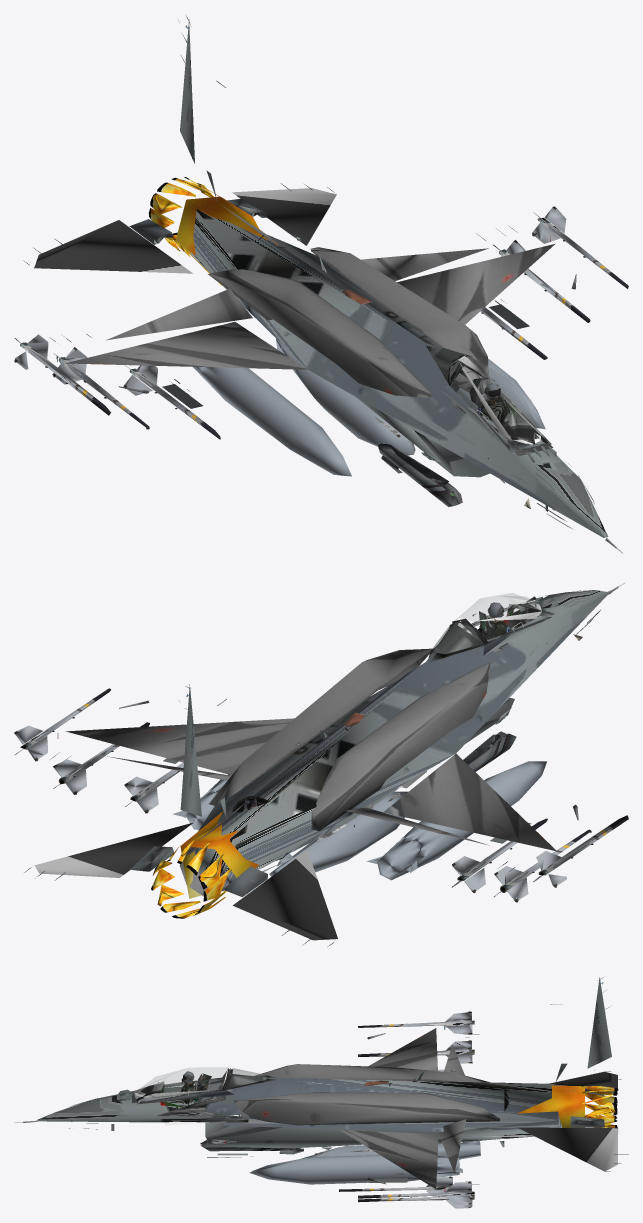
The picture shows the model from 3 angles, top to bottom: view 1: azimuth 30°, elevation 25°; view 2: azimuth 150°, elevation 25°; view 3: azimuth 270°, elevation 25°; orthographic projection. The views are drawn at different scales.
Parts seen in each view (by area): view 1: BODY; view 2: BODY; view 3: BODY.
Part boxes in pixels (box(x1,y1,x2,y2)): BODY: box(14, 16, 628, 553); BODY: box(14, 582, 628, 946); BODY: box(14, 977, 628, 1208).
Size of what is drawn, in the model's own units: 6.83 by 3.46 by 9.97.
28 materials, 20 textured.
